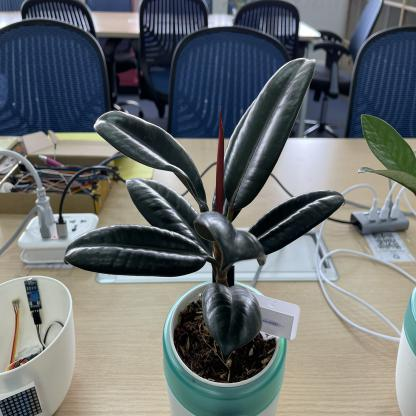Rubber: (64, 54, 346, 366)
